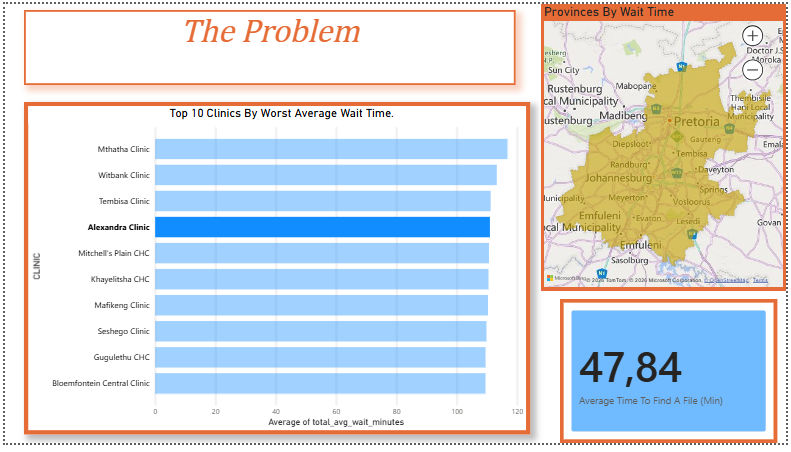

The page's visual inventory and layout, read from the dashboard file:
{"tool":"powerbi","page":{"name":"The Problem","canvas":[1280,720],"ordinal":0},"visuals":[{"type":"clusteredBarChart","title":"Top 10 Clinics By Worst Average Wait Time.","fields":{"Category":["vw_AvgWaitByClinic.clinic_name"],"Y":["Avg(vw_AvgWaitByClinic.total_avg_wait_minutes)"]},"box":[31.7,160.4,830.4,544.8],"z":0},{"type":"cardVisual","fields":{"Data":["Avg(vw_AvgWaitByClinic.avg_file_wait)"]},"box":[909.8,483.1,356.1,236.3],"z":1000},{"type":"filledMap","title":"Provinces By Wait Time","fields":{"Category":["clinics.province"],"Series":["vw_AvgWaitByClinic.total_avg_wait_minutes"]},"box":[878,0,402,469],"z":2000},{"type":"textbox","box":[31.7,10.6,805.7,123.4],"z":3000}]}

Visuals, with their boxes in screenshot pixels (x1, y1, x2, y2), scaled from the page's 1280x720 canvas onto the 791x452 screenshot:
"Top 10 Clinics By Worst Average Wait Time." clusteredBarChart: left=20, top=101, right=533, bottom=443
cardVisual - Avg(vw_AvgWaitByClinic.avg_file_wait): left=562, top=303, right=782, bottom=451
"Provinces By Wait Time" filledMap: left=543, top=0, right=790, bottom=294
textbox: left=20, top=7, right=517, bottom=84
